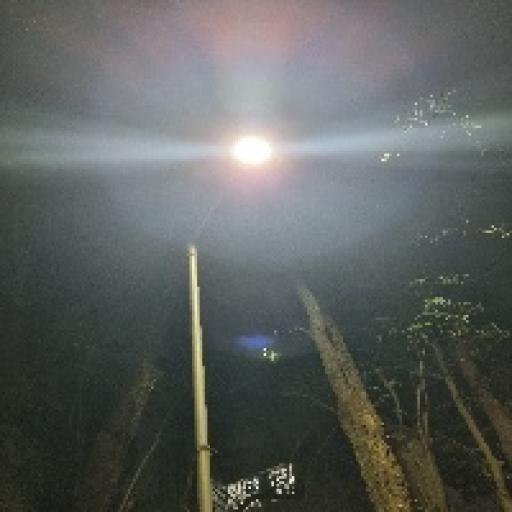Working: (220, 128, 278, 176)
